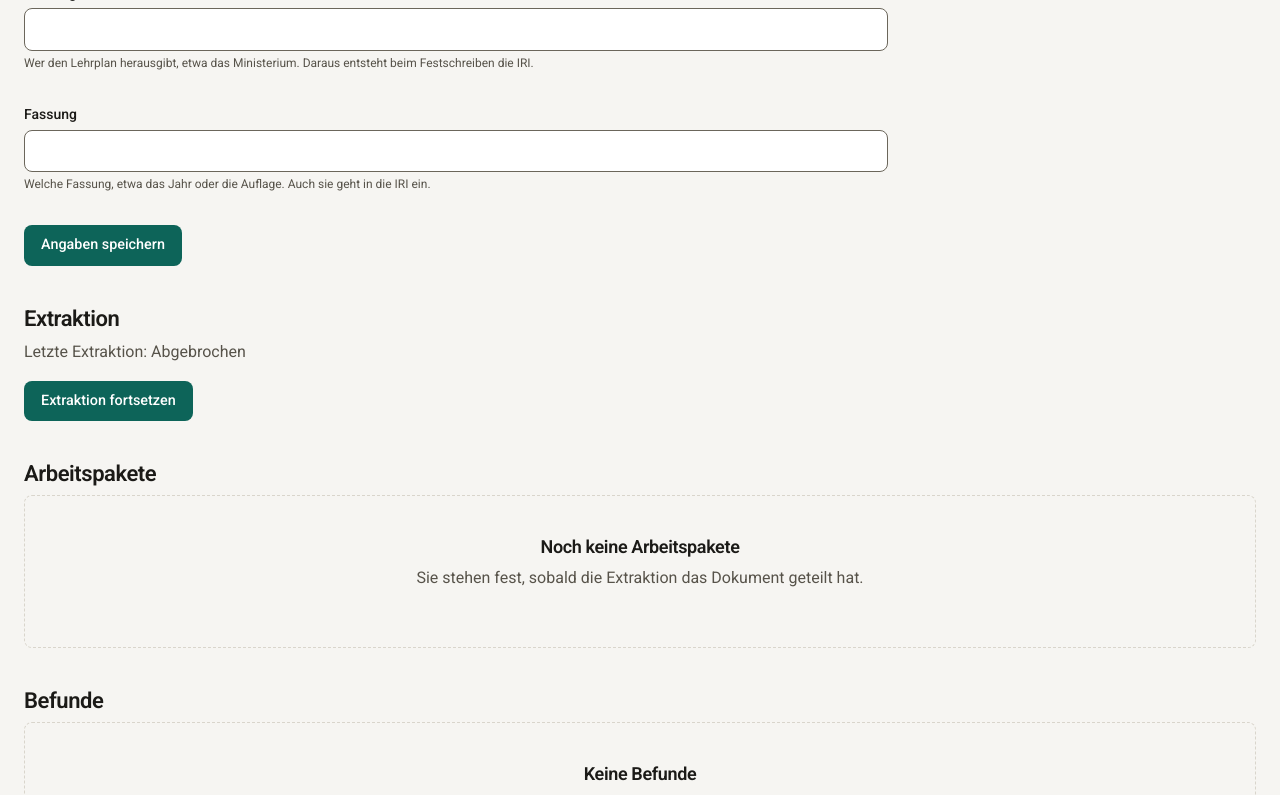
a document's page › names a repair a start gave back as one, and says that it runs already
The width and height of the screenshot is (1280, 795).
(page scrolled)
Click the button with test id "extraction-resume": (108, 401) [24,381,193,421]
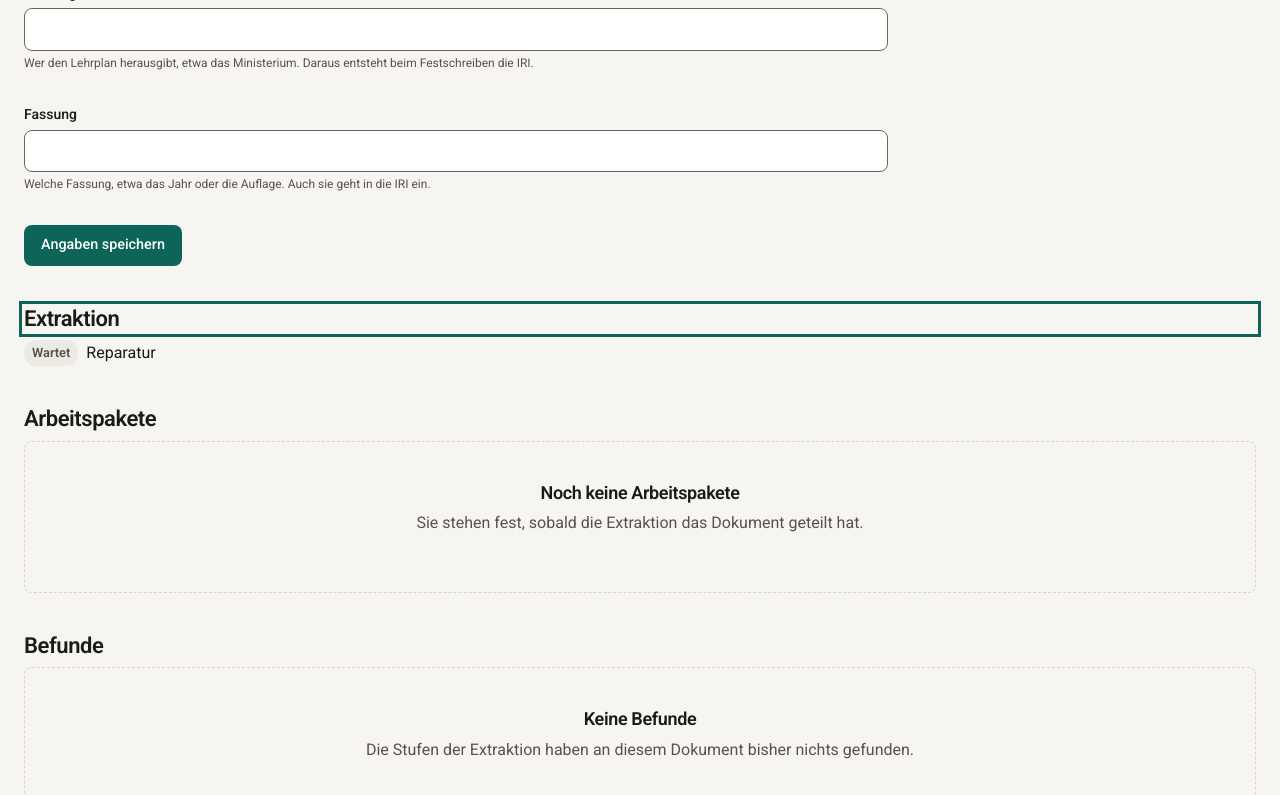
Expected: the text with class "job__label" reads "Reparatur", [86,343,156,362]
